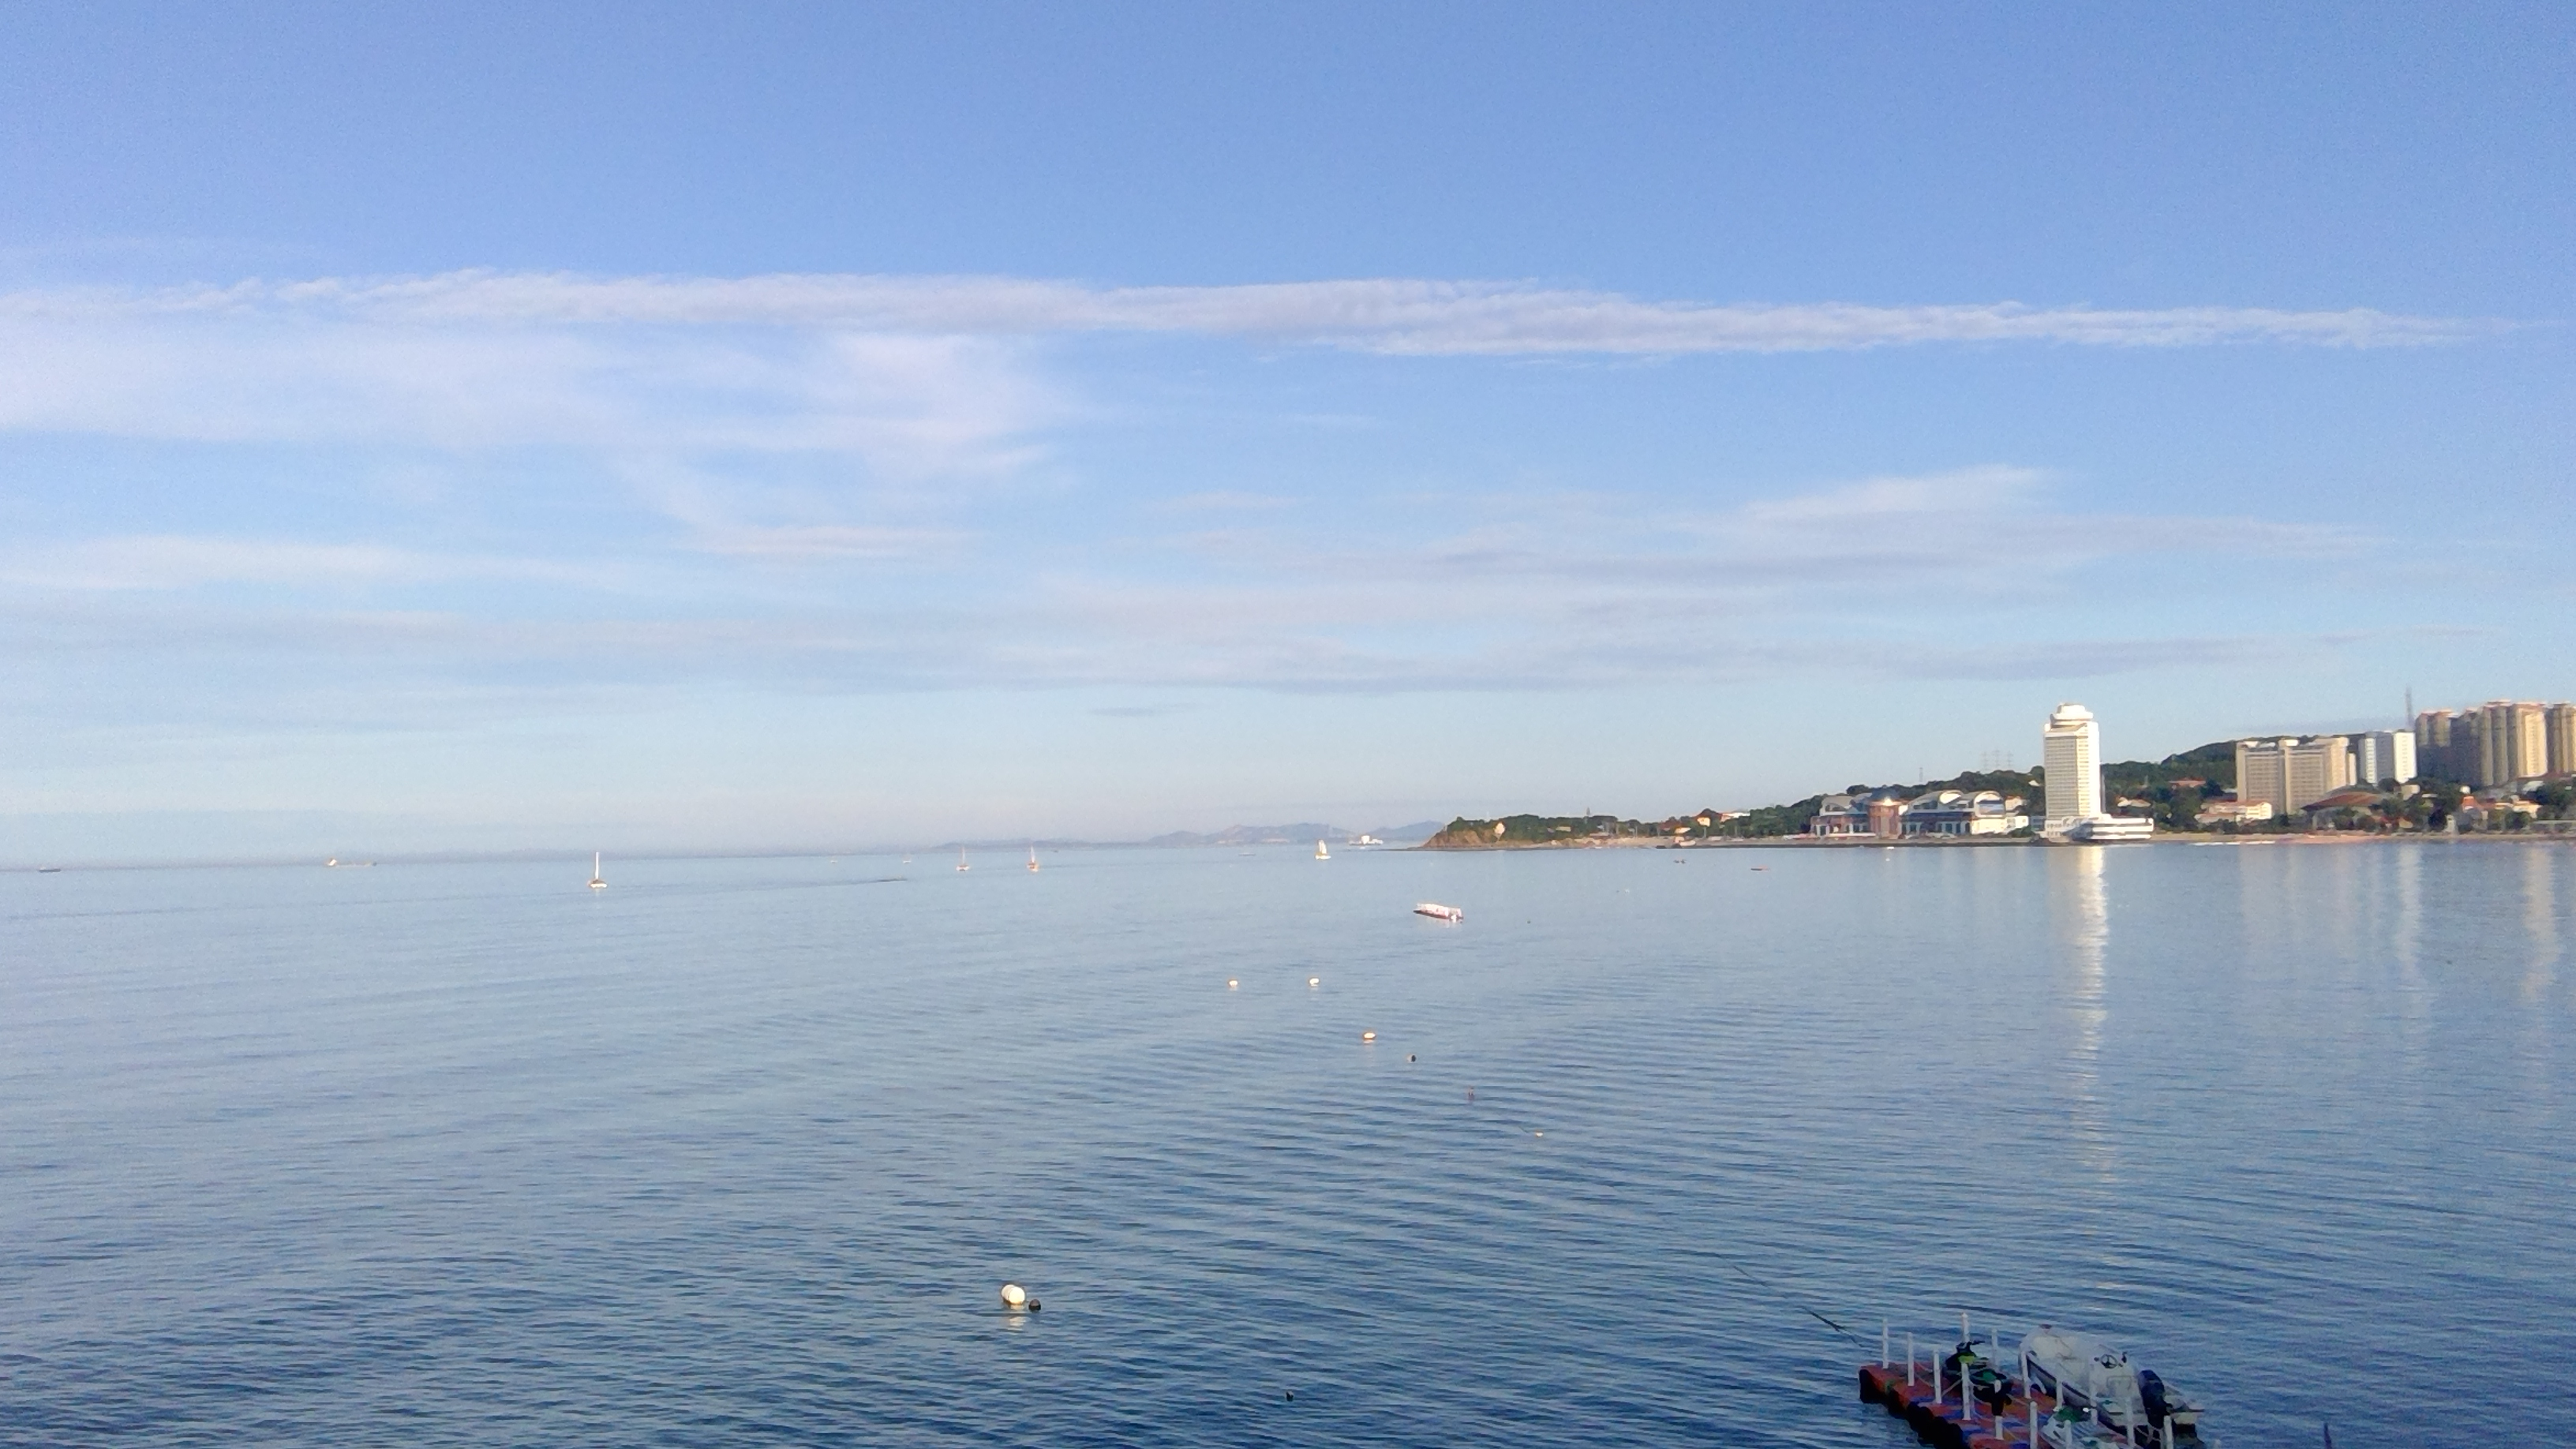ball: (994, 1270, 1054, 1332)
boat: (1408, 888, 1467, 934)
harbor: (1815, 1293, 2210, 1449), (563, 849, 623, 908)
